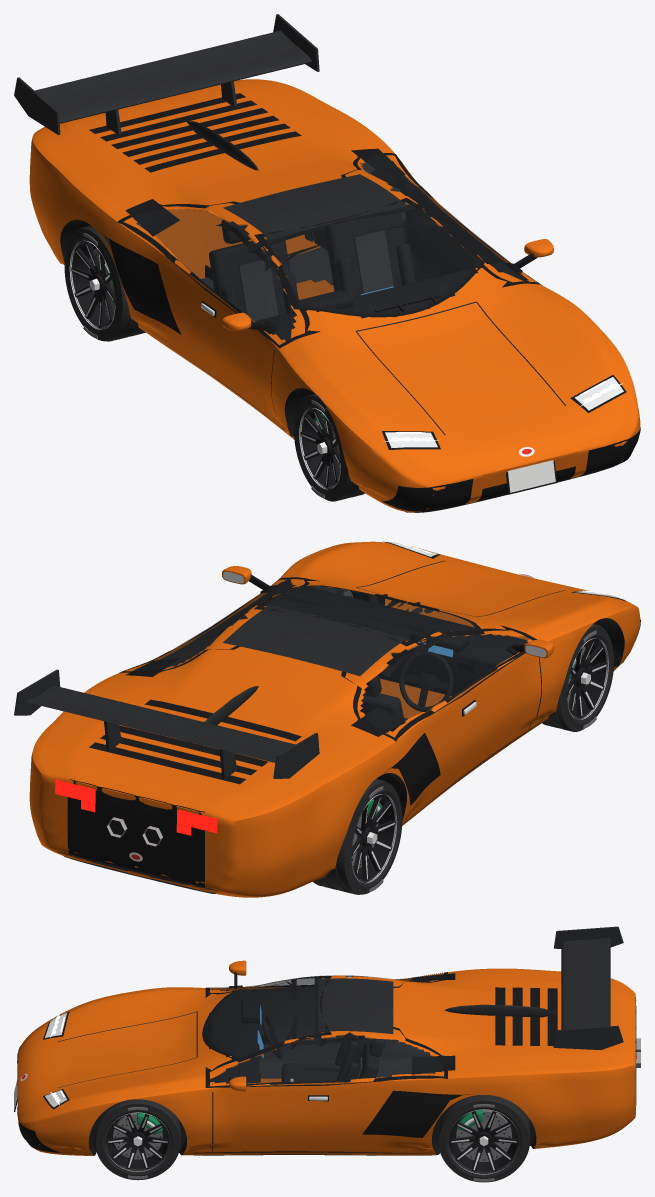
File: svj.glb
3 renders of one model, top to bottom at view 1: azimuth 30°, elevation 25°; view 2: azimuth 150°, elevation 25°; view 3: azimuth 270°, elevation 25°, orthographic. The views are drawn at different scales.
Parts seen in each view (by area): view 1: Body, Wheel_RR, Wheel_FR; view 2: Body, Wheel_RR, Wheel_FR; view 3: Body, Wheel_RL, Wheel_FL.
Boxes of the visible parts, <box> form: Body: <box>14,14,640,512</box>; Wheel_RR: <box>64,225,145,341</box>; Wheel_FR: <box>294,394,364,501</box>; Body: <box>14,541,640,897</box>; Wheel_RR: <box>313,779,402,894</box>; Wheel_FR: <box>542,624,613,731</box>; Body: <box>14,926,640,1155</box>; Wheel_RL: <box>438,1095,530,1182</box>; Wheel_FL: <box>95,1099,180,1180</box>.
Size of the model in its own units: 2.38 by 1.36 by 5.04.
